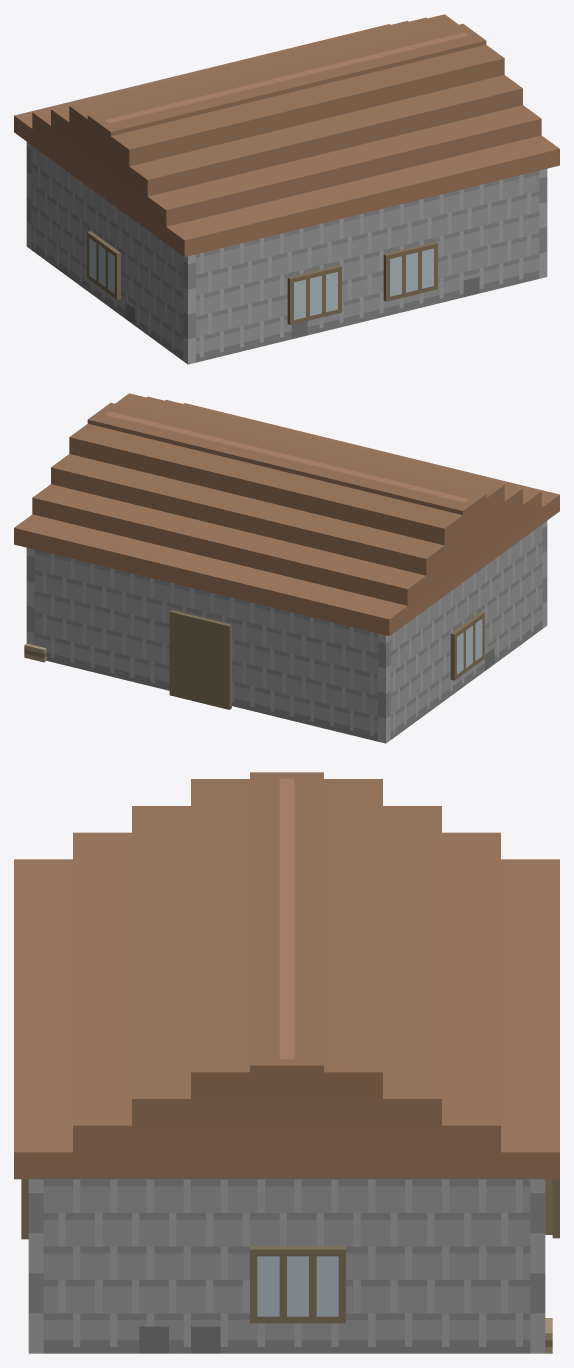
Rendered from forja_aleaciones_03.glb.
3 views of the same model, one above another, from view 1: azimuth 30°, elevation 25°; view 2: azimuth 150°, elevation 25°; view 3: azimuth 270°, elevation 25° (orthographic). The views are drawn at different scales.
Parts seen in each view (by area): view 1: forja_aleaciones_03; view 2: forja_aleaciones_03; view 3: forja_aleaciones_03.
Part boxes in pixels (x1=…): forja_aleaciones_03: x1=14, y1=14, x2=559, y2=364; forja_aleaciones_03: x1=14, y1=393, x2=559, y2=743; forja_aleaciones_03: x1=14, y1=772, x2=559, y2=1353.
Size of the model in its own units: 9.4 by 4.4 by 7.4.
